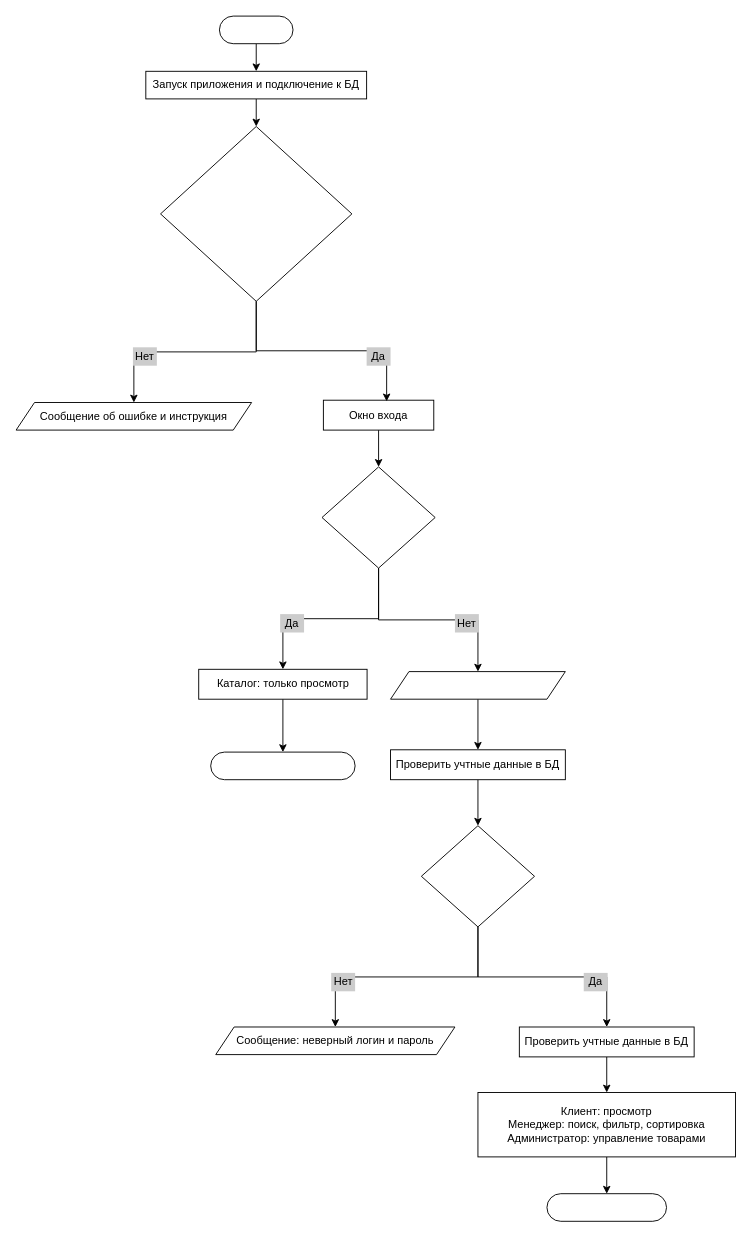
This 752x1237 diagram has some shape labels left out. The shapes that lost their labels are listed below. From the top down, each one's centre as x and y in pixels, then its label:
At (255,29): "Начало".
At (256,213): "Подключение доступно?".
At (378,517): "Вход гостём?".
At (477,685): "Ввод логина и пароля".
At (282,765): "Конец гостпевого сеанса".
At (477,876): "Данные верны?".
At (606,1207): "Выход -> окно входа".
